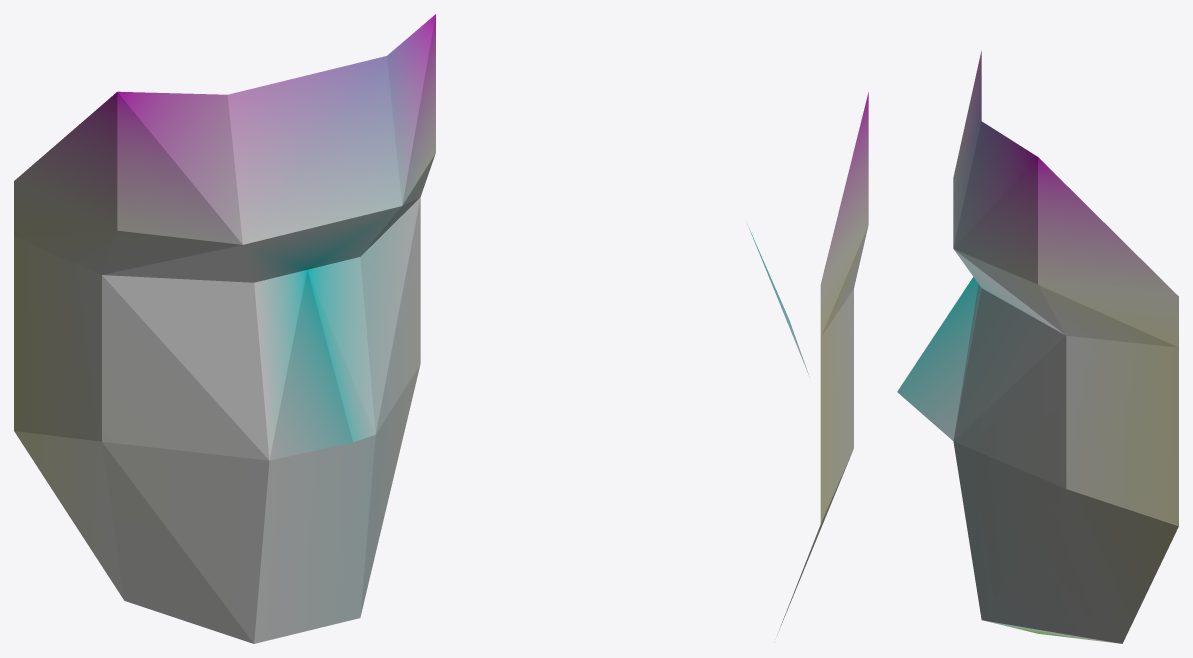
3 views of the same model, side by side, from view 1: azimuth 30°, elevation 25°; view 2: azimuth 150°, elevation 25°; view 3: azimuth 270°, elevation 25° (orthographic). The views are drawn at different scales.
Parts seen in each view (by area): view 1: model_140E; view 2: model_140E; view 3: model_140E.
Part boxes in pixels (x1,y1,x2,y2): model_140E: (14, 14, 435, 643); model_140E: (747, 92, 868, 635); model_140E: (897, 50, 1178, 643).
Bounding box in the file's own units: 14 × 21 × 10.
